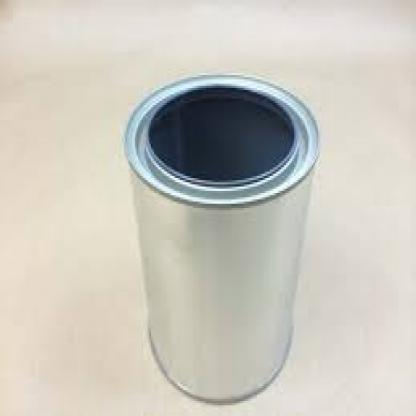Compsot: (122, 73, 318, 401)
